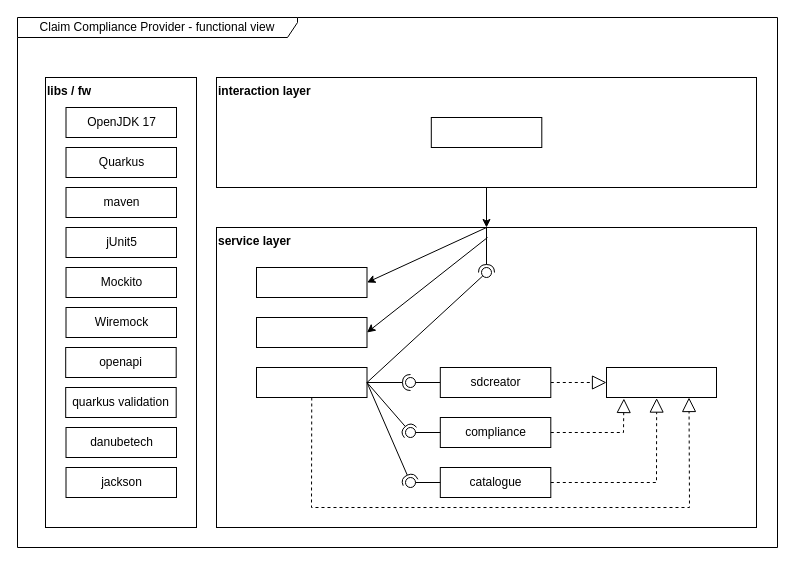
The diagram is 795 pixels wide and 565 high, and some of its shapes have lost their labels. Each missing label, with the centre of its shape:
claimcreator: the point at 311,332
config: the point at 311,282
controller (REST): the point at 486,132
interface: the point at 661,382
processor: the point at 311,382
